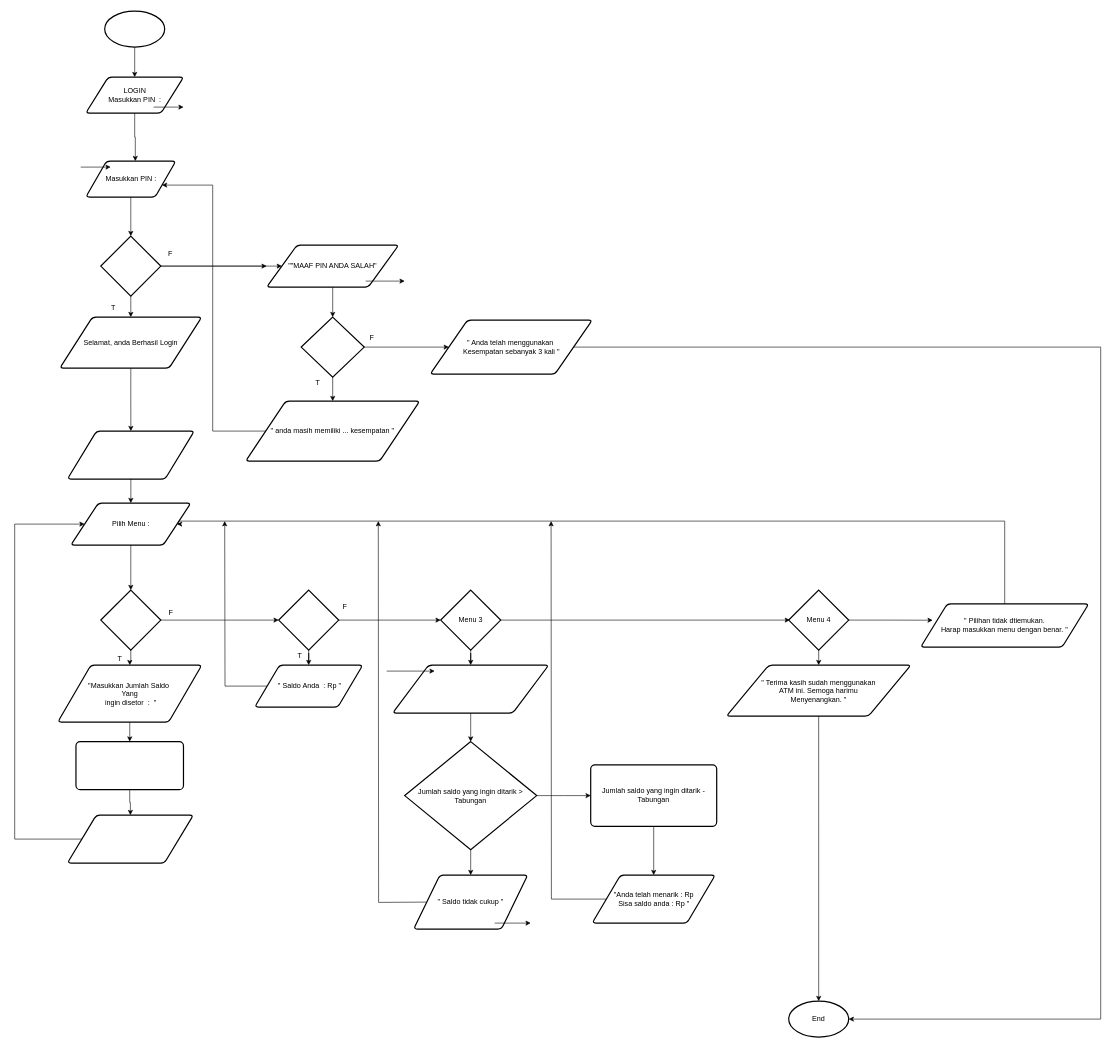
The diagram is 1116 pixels wide and 1048 high, and some of its shapes have lost their labels. The centre of each missing label's shape, as x and y in pixels:
" Anda telah menyetor : Rp ": (130,838)
" masukkan jum;ah saldo ingin ditarik : Rp ": (470,688)
"MENU ATM 1. Setor Tunai 2. Cek Saldo 3. Tarik Tunai 4. Keluar": (130,454)
Jumlah saldo yang disetor + Tabungan: (129,765)
Kesempatan > 0: (332,346)
Menu 1: (130,619)
Menu 2: (308,619)
PIN BENAR ?: (130,265)
start: (134,28)
